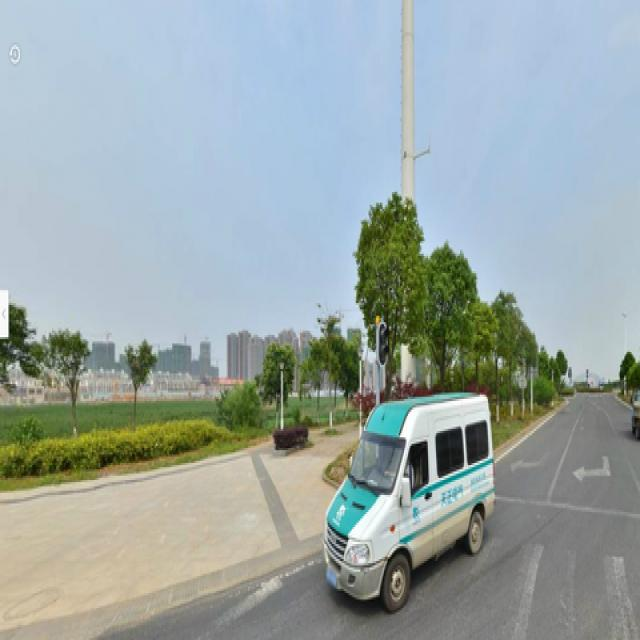cinn: (368, 185, 412, 392), (428, 237, 459, 375)
